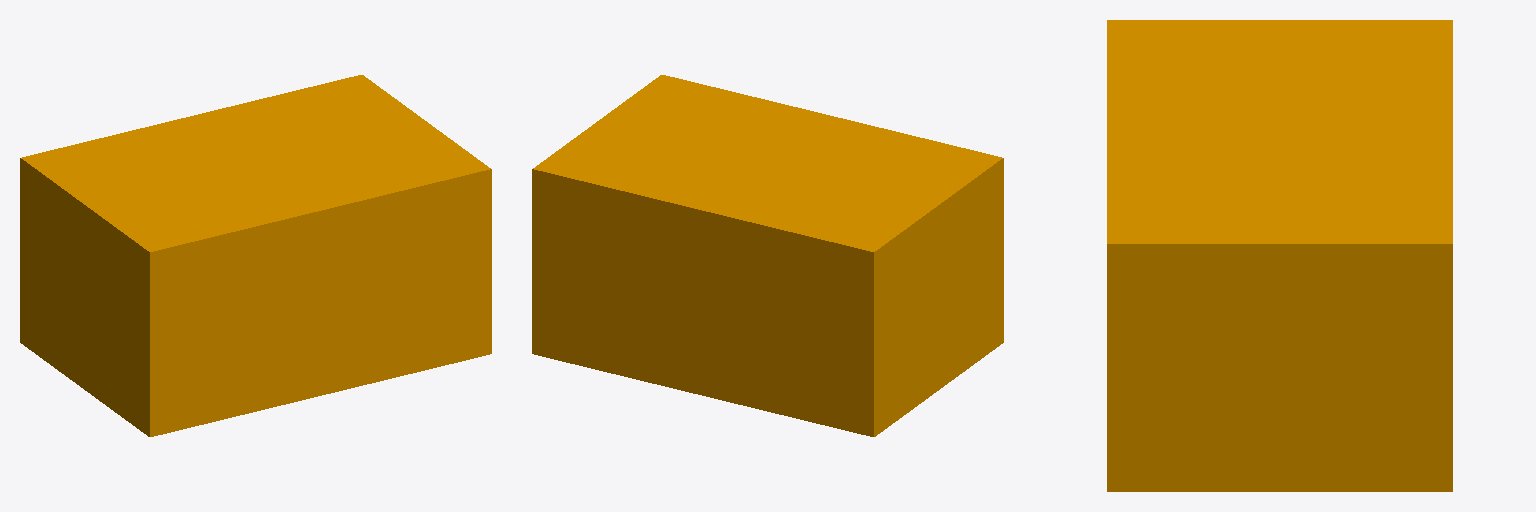
robot.urdf — object:
<?xml version="1.0"?>
<!-- Auto-generated by tools/gen_primitive_objects.py. kind=box dims=(0.098057, 0.064269, 0.050777) -->
<robot name="object">
  <link name="object">
    <visual>
      <origin xyz="0 0 0"/>
      <geometry>
        <box size="0.098057 0.064269 0.050777"/>
      </geometry>
    </visual>
    <collision>
      <origin xyz="0 0 0"/>
      <geometry>
        <box size="0.098057 0.064269 0.050777"/>
      </geometry>
    </collision>
    <inertial>
      <mass value="0.064000"/>
      <inertia ixx="0.00003578" ixy="0.0" ixz="0.0" iyy="0.00006503" iyz="0.0" izz="0.00007331"/>
    </inertial>
  </link>
</robot>

--- What the picture shows (computed from the rendered views, not written in the file) ---
The picture shows the robot from 3 angles, left to right: view 1: azimuth 30°, elevation 25°; view 2: azimuth 150°, elevation 25°; view 3: azimuth 270°, elevation 25°; orthographic projection.
Model object with 1 links and 0 joints (none), rooted at object, posed all joints at 0.
Visible links, largest first — view 1: object; view 2: object; view 3: object.
Boxes of the visible links, x1,y1,x2,y2 form: object: (20, 75, 491, 436); object: (532, 75, 1003, 436); object: (1107, 20, 1452, 491).
Size in the robot's own frame: 0.0981 by 0.0643 by 0.0508 metres.
Geometry: primitives only (box / cylinder / sphere), no mesh files.
